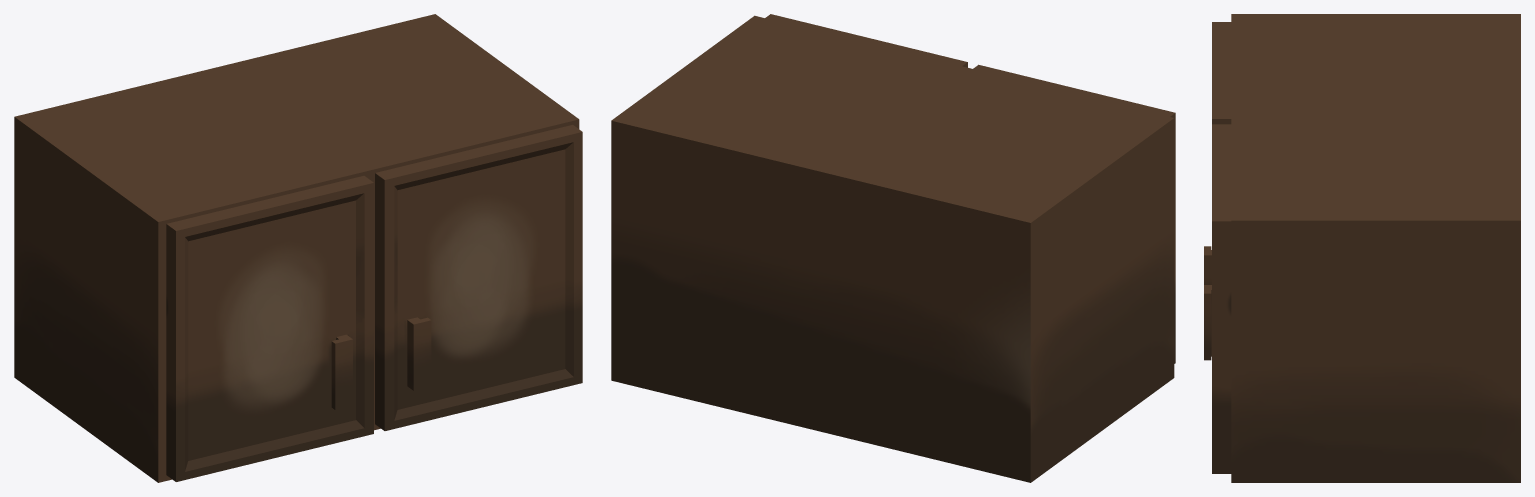
Rendered from KitchenShelves.fbx.
The picture shows the model from 3 angles, left to right: view 1: azimuth 30°, elevation 25°; view 2: azimuth 150°, elevation 25°; view 3: azimuth 270°, elevation 25°; orthographic projection.
Visible parts, largest first — view 1: Shelve, Door1, Door2; view 2: Shelve, Door1, Door2; view 3: Shelve, Door2, Door1.
Boxes of the visible parts, x1=… form: Shelve: x1=14, y1=14, x2=579, y2=482; Door1: x1=166, y1=176, x2=373, y2=481; Door2: x1=375, y1=125, x2=582, y2=430; Shelve: x1=611, y1=15, x2=1174, y2=482; Door1: x1=973, y1=64, x2=1175, y2=363; Door2: x1=765, y1=14, x2=967, y2=67; Shelve: x1=1231, y1=14, x2=1520, y2=482; Door2: x1=1204, y1=124, x2=1231, y2=473; Door1: x1=1204, y1=22, x2=1231, y2=284.
Size of the model in its own units: 525 by 311 by 340.
